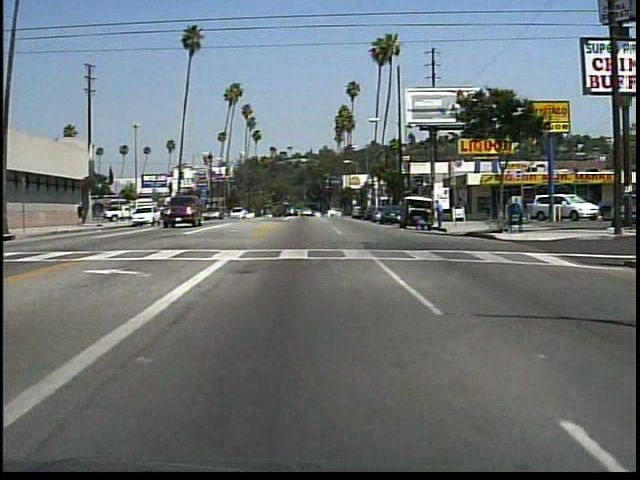person: (433, 197, 446, 233), (480, 192, 495, 221), (412, 215, 430, 232), (77, 199, 86, 228)
